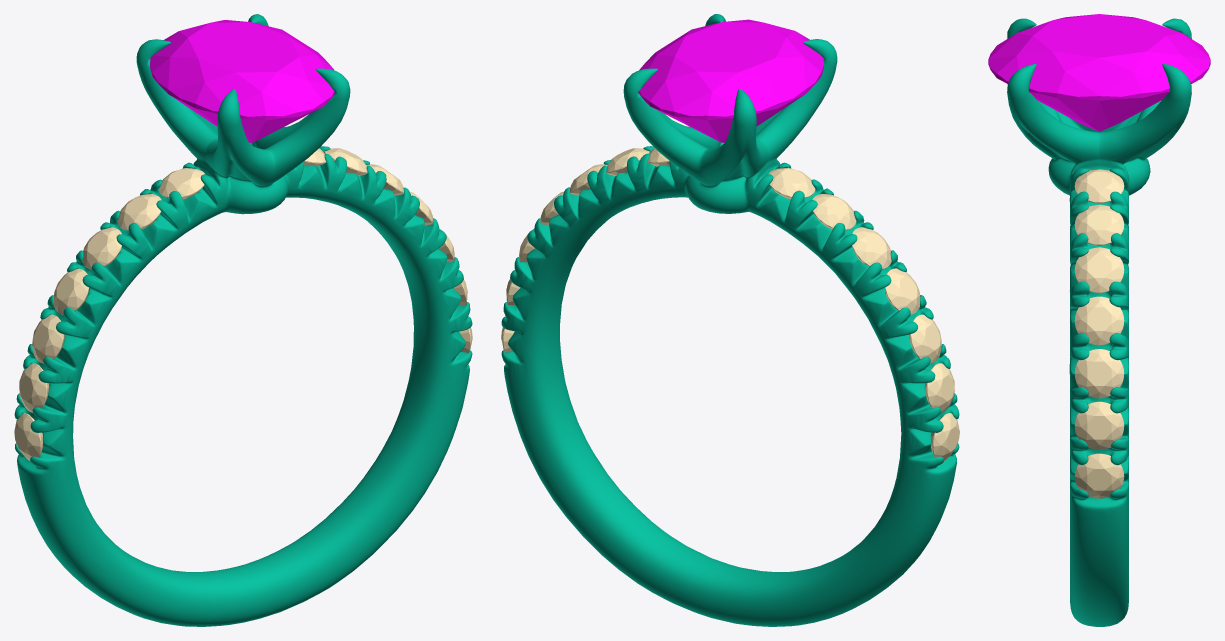
Rendered from BE1D4259_OV_200ct_RENDER.glb.
3 views of the same model, side by side, from view 1: azimuth 30°, elevation 25°; view 2: azimuth 150°, elevation 25°; view 3: azimuth 270°, elevation 25° (orthographic).
Parts seen in each view (by area): view 1: Metal 01, CS_Diamond_Oval, Diamond_Round_Gem_SH.012, Diamond_Round_Gem_SH.007, Diamond_Round_Gem_SH.008, Diamond_Round_Gem_SH.011, Diamond_Round_Gem_SH.010, Diamond_Round_Gem_SH.013, Diamond_Round_Gem_SH.009; view 2: Metal 01, CS_Diamond_Oval, Diamond_Round_Gem_SH.012, Diamond_Round_Gem_SH.007, Diamond_Round_Gem_SH.008, Diamond_Round_Gem_SH.011, Diamond_Round_Gem_SH.010, Diamond_Round_Gem_SH.013, Diamond_Round_Gem_SH.009; view 3: Metal 01, CS_Diamond_Oval, Diamond_Round_Gem_SH.002, Diamond_Round_Gem_SH.003, Diamond_Round_Gem_SH.006, Diamond_Round_Gem_SH.001, Diamond_Round_Gem_SH.004, Diamond_Round_Gem_SH.005, Diamond_Round_Gem_SH.
Boxes of the visible parts, box(x1,y1,x2,y2) form: Metal 01: box(14, 14, 472, 626); CS_Diamond_Oval: box(150, 20, 335, 142); Diamond_Round_Gem_SH.012: box(82, 227, 121, 269); Diamond_Round_Gem_SH.007: box(53, 268, 88, 314); Diamond_Round_Gem_SH.008: box(117, 194, 161, 230); Diamond_Round_Gem_SH.011: box(32, 314, 64, 363); Diamond_Round_Gem_SH.010: box(19, 363, 49, 412); Diamond_Round_Gem_SH.013: box(158, 168, 204, 199); Diamond_Round_Gem_SH.009: box(14, 413, 42, 460); Metal 01: box(501, 14, 959, 626); CS_Diamond_Oval: box(638, 19, 823, 142); Diamond_Round_Gem_SH.012: box(852, 227, 891, 269); Diamond_Round_Gem_SH.007: box(885, 268, 920, 314); Diamond_Round_Gem_SH.008: box(812, 194, 856, 230); Diamond_Round_Gem_SH.011: box(909, 314, 941, 363); Diamond_Round_Gem_SH.010: box(925, 363, 954, 412); Diamond_Round_Gem_SH.013: box(768, 167, 815, 199); Diamond_Round_Gem_SH.009: box(931, 413, 959, 460); Metal 01: box(1007, 18, 1191, 626); CS_Diamond_Oval: box(988, 14, 1210, 131); Diamond_Round_Gem_SH.002: box(1074, 349, 1124, 398); Diamond_Round_Gem_SH.003: box(1074, 401, 1124, 449); Diamond_Round_Gem_SH.006: box(1074, 296, 1124, 345); Diamond_Round_Gem_SH.001: box(1074, 247, 1124, 292); Diamond_Round_Gem_SH.004: box(1074, 453, 1124, 498); Diamond_Round_Gem_SH.005: box(1074, 204, 1124, 245); Diamond_Round_Gem_SH: box(1074, 169, 1124, 203).
Bounding box in the file's own units: 20.69 × 25.32 × 9.
